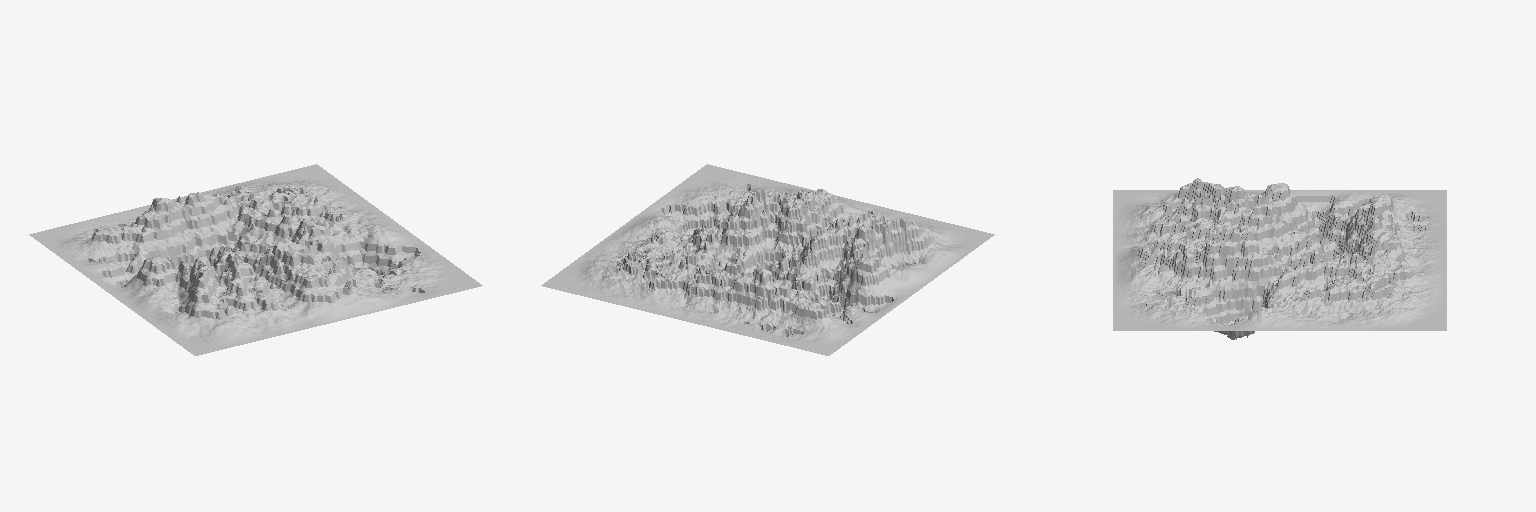
Rendered from terrain3.obj.
3 views of the same model, side by side, from view 1: azimuth 30°, elevation 25°; view 2: azimuth 150°, elevation 25°; view 3: azimuth 270°, elevation 25° (orthographic).
Visible parts, largest first — view 1: Landscape.006; view 2: Landscape.006; view 3: Landscape.006.
Boxes of the visible parts, <box> form: Landscape.006: <box>29,164,482,355</box>; Landscape.006: <box>541,164,994,355</box>; Landscape.006: <box>1113,178,1446,339</box>.
Size of the model in its own units: 200 by 57.6 by 200.